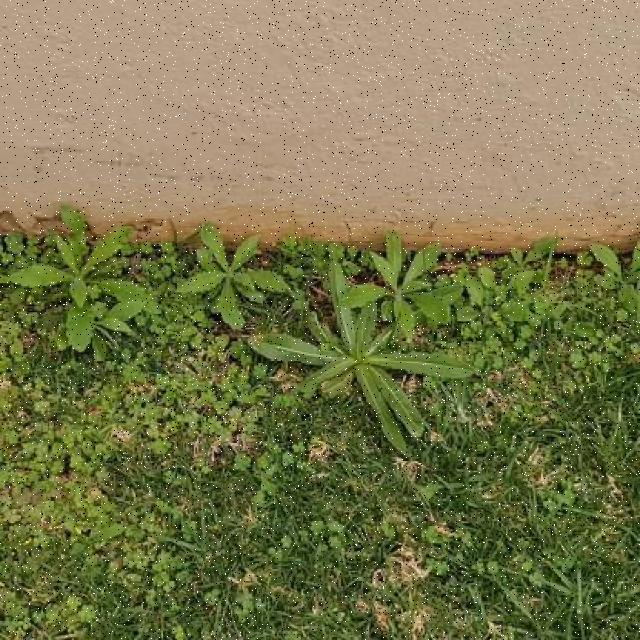weed: (178, 225, 640, 455), (0, 220, 154, 359)
